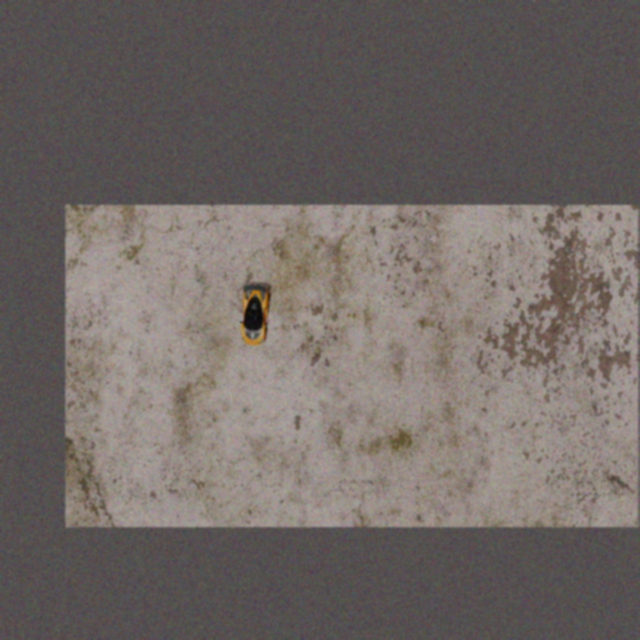car: (237, 283, 271, 347)
